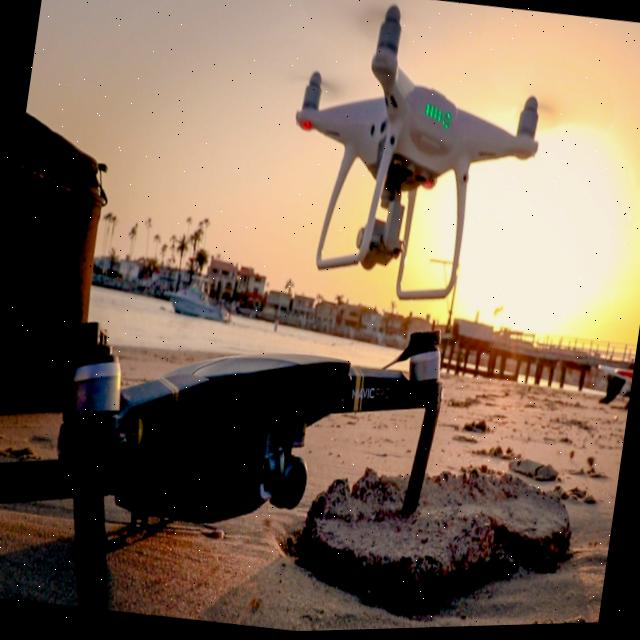drone: (246, 0, 592, 346)
